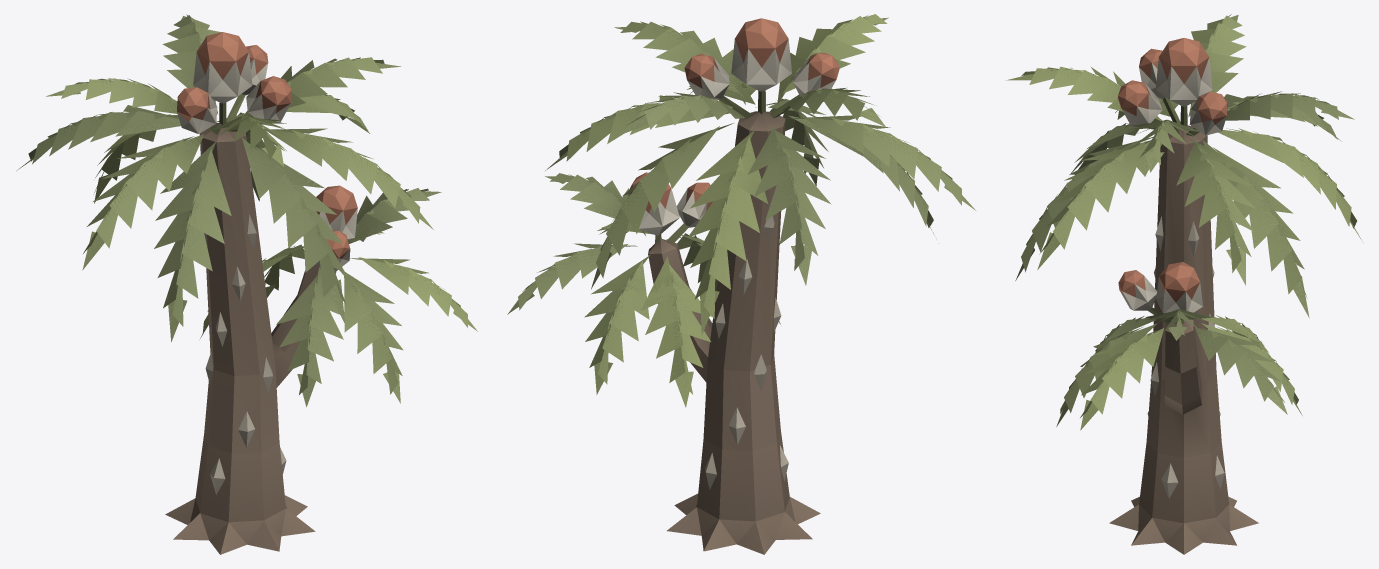
File: williamsonia.glb
3 renders of one model, left to right at view 1: azimuth 30°, elevation 25°; view 2: azimuth 150°, elevation 25°; view 3: azimuth 270°, elevation 25°, orthographic. The views are drawn at different scales.
Parts seen in each view (by area): view 1: williamsonia.001; view 2: williamsonia.001; view 3: williamsonia.001.
Boxes of the visible parts, x1,y1,x2,y2 form: williamsonia.001: [17, 14, 477, 554]; williamsonia.001: [507, 14, 975, 554]; williamsonia.001: [1005, 14, 1361, 554].
Bounding box in the file's own units: 3.76 × 4.55 × 3.1.
